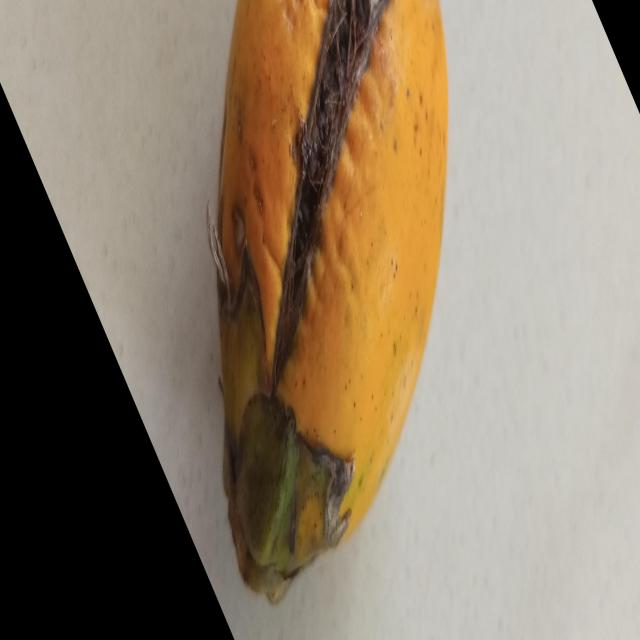damaged: (207, 0, 448, 603)
